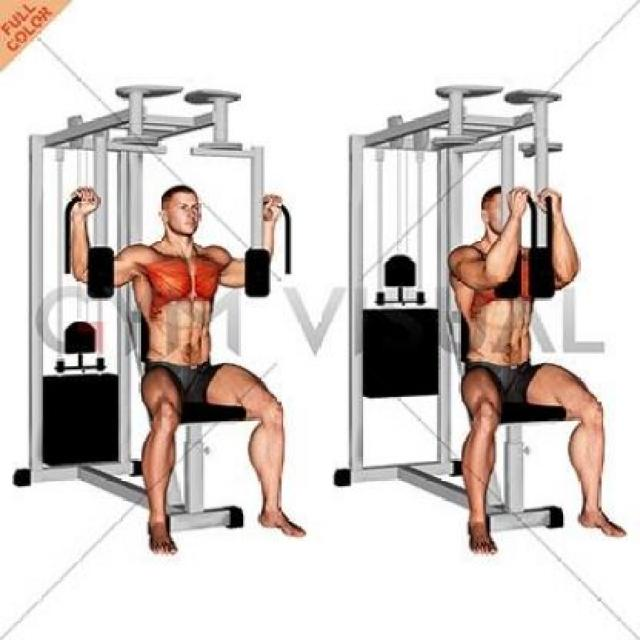chest fly machine: (6, 65, 329, 580), (335, 75, 631, 563)
